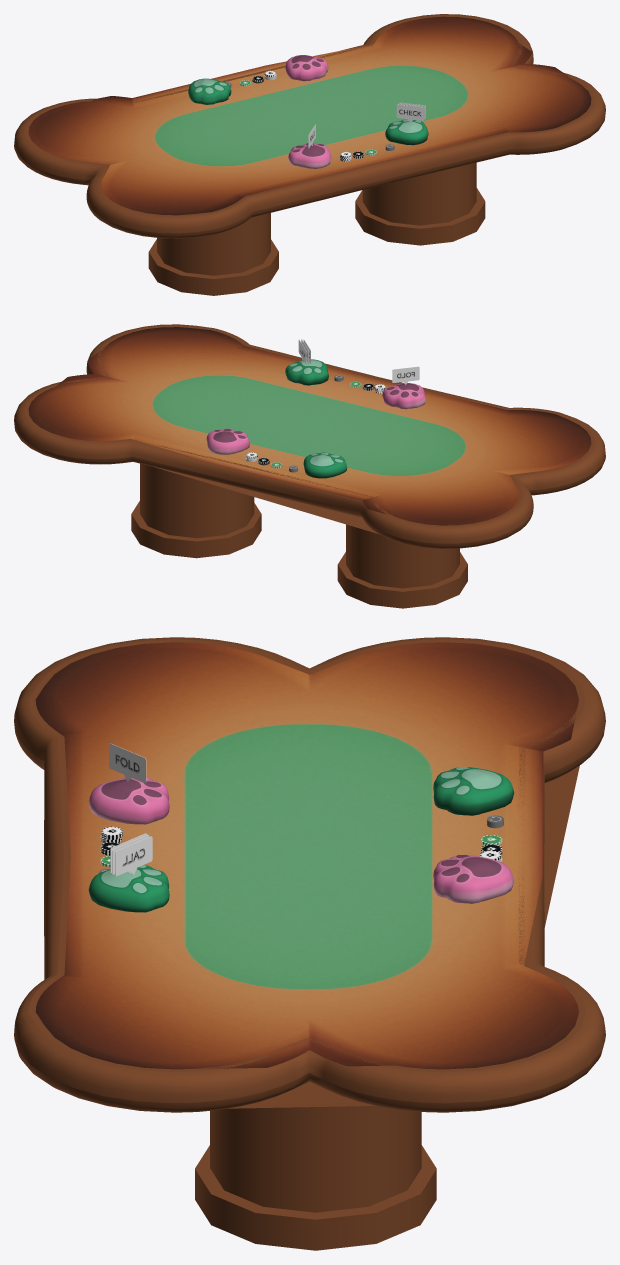
Rendered from Bone Table.FBX.
3 views of the same model, one above another, from view 1: azimuth 30°, elevation 25°; view 2: azimuth 150°, elevation 25°; view 3: azimuth 270°, elevation 25° (orthographic). The views are drawn at different scales.
Parts seen in each view (by area): view 1: Bone Table, 3-in-1 Paw004, Fold Paw001, 3-in-1 Paw, Fold Paw, HUD_Check; view 2: Bone Table, 3-in-1 Paw004, Fold Paw001, Fold Paw, 3-in-1 Paw, HUD_Fold; view 3: Bone Table, 3-in-1 Paw004, Fold Paw001, Fold Paw, 3-in-1 Paw, HUD_Call, HUD_Fold.
Part boxes in pixels (box(x1,y1,x2,y2)): Bone Table: box(14, 14, 605, 295); 3-in-1 Paw004: box(188, 78, 231, 104); Fold Paw001: box(285, 55, 328, 81); 3-in-1 Paw: box(385, 119, 428, 145); Fold Paw: box(288, 142, 331, 168); HUD_Check: box(396, 104, 423, 122); Bone Table: box(14, 324, 605, 608); 3-in-1 Paw004: box(303, 452, 347, 478); Fold Paw001: box(206, 428, 249, 454); Fold Paw: box(382, 383, 425, 409); 3-in-1 Paw: box(285, 359, 328, 385); HUD_Fold: box(392, 366, 419, 384); Bone Table: box(14, 637, 605, 1250); 3-in-1 Paw004: box(433, 767, 514, 815); Fold Paw001: box(433, 854, 514, 903); Fold Paw: box(88, 777, 169, 824); 3-in-1 Paw: box(88, 864, 169, 912); HUD_Call: box(115, 836, 152, 876); HUD_Fold: box(109, 743, 146, 782).
Bounding box in the file's own units: 0.7924 × 0.2505 × 0.4406.
15 materials, 11 textured.
